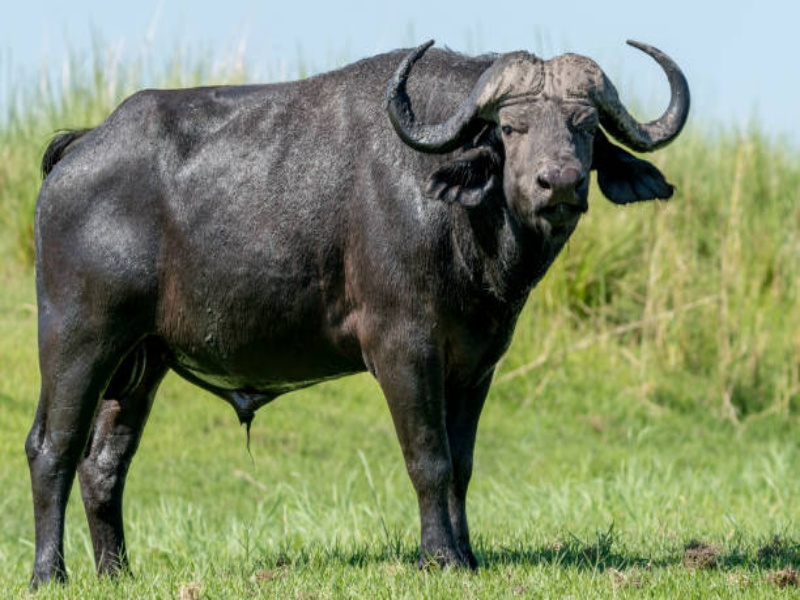buffalo: (21, 37, 695, 553)
